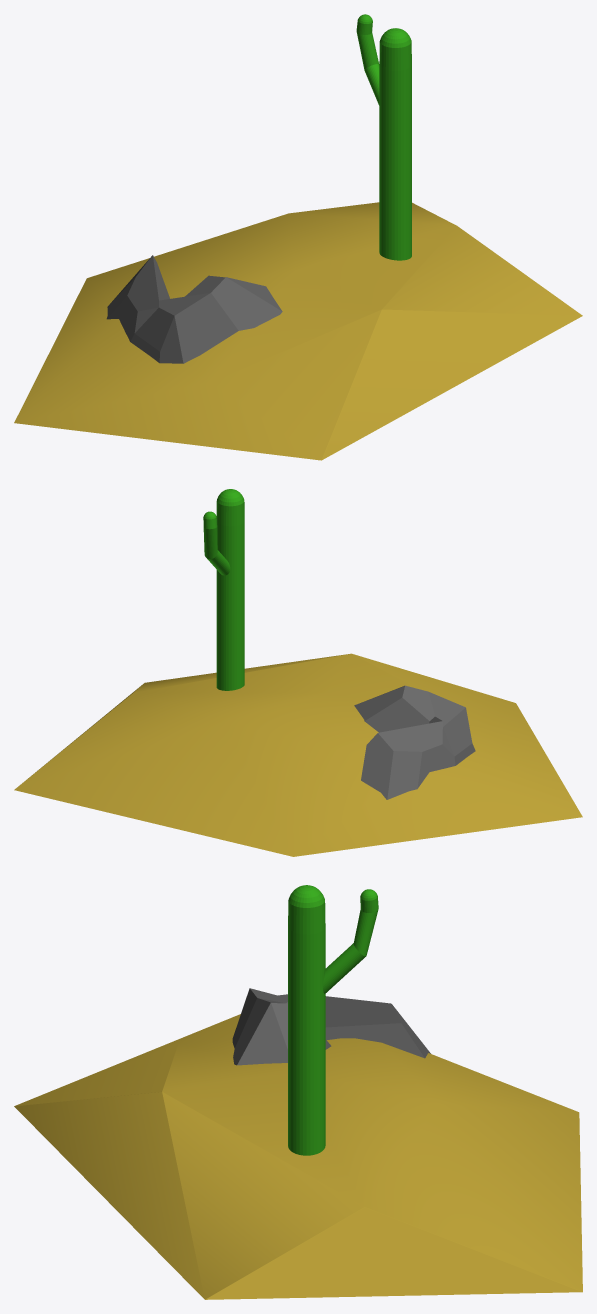
File: desert_ob_01.fbx
The picture shows the model from 3 angles, top to bottom: view 1: azimuth 30°, elevation 25°; view 2: azimuth 150°, elevation 25°; view 3: azimuth 270°, elevation 25°; orthographic projection. The views are drawn at different scales.
Parts seen in each view (by area): view 1: Icosphere, Cube, Cylinder; view 2: Icosphere, Cube, Cylinder; view 3: Icosphere, Cylinder, Cube.
Part boxes in pixels (left/top/right/bottom): Icosphere: left=14, top=202, right=582, bottom=460; Cube: left=106, top=255, right=282, bottom=363; Cylinder: left=356, top=14, right=411, bottom=260; Icosphere: left=14, top=653, right=582, bottom=856; Cube: left=354, top=685, right=475, bottom=799; Cylinder: left=203, top=489, right=244, bottom=690; Icosphere: left=14, top=1014, right=582, bottom=1299; Cylinder: left=288, top=885, right=378, bottom=1155; Cube: left=232, top=988, right=430, bottom=1065.
Size of the model in its own units: 2769 by 1422 by 2207.
